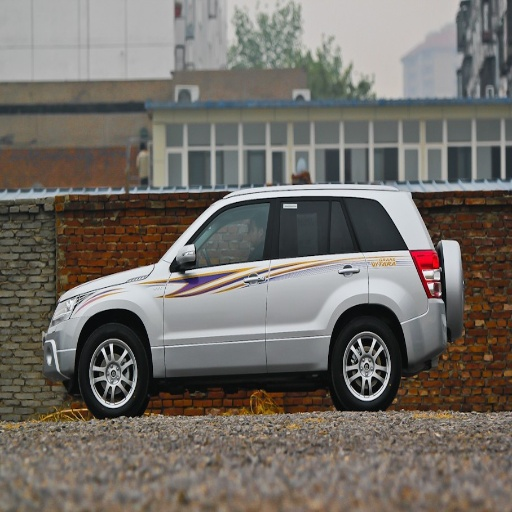back_left_door: (267, 197, 366, 365)
front_left_door: (163, 197, 276, 370)
